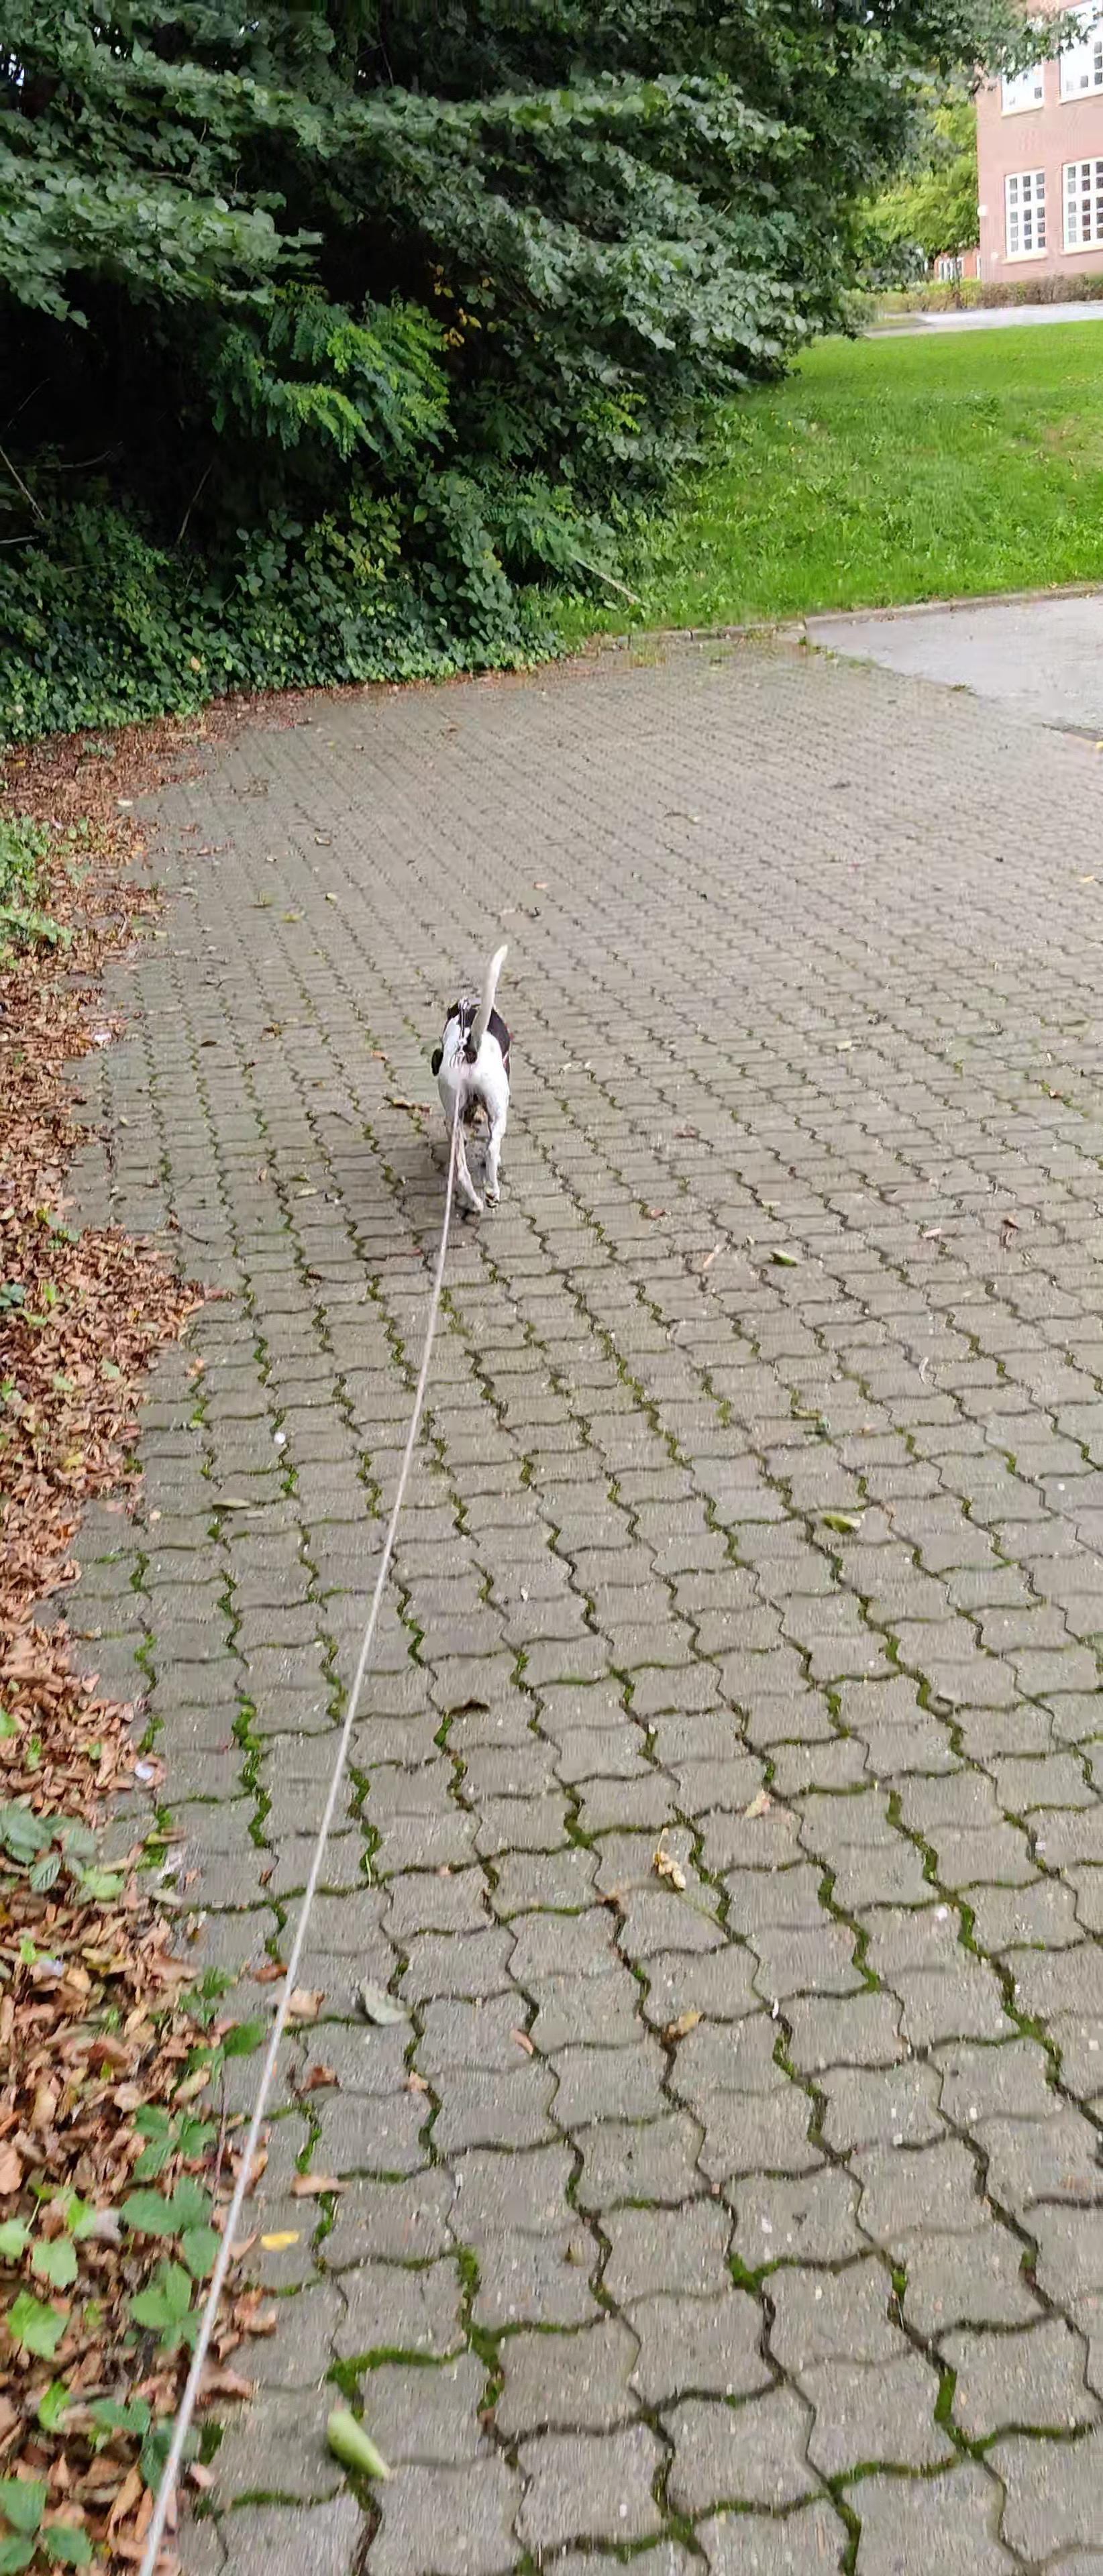Dog: (413, 941, 523, 1207)
